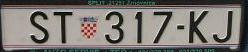-: (173, 21, 187, 32)
1: (134, 10, 144, 44)
3: (102, 12, 126, 44)
7: (151, 11, 172, 45)
J: (213, 10, 234, 44)
K: (189, 9, 209, 47)
S: (30, 11, 50, 45)
T: (53, 9, 75, 46)
